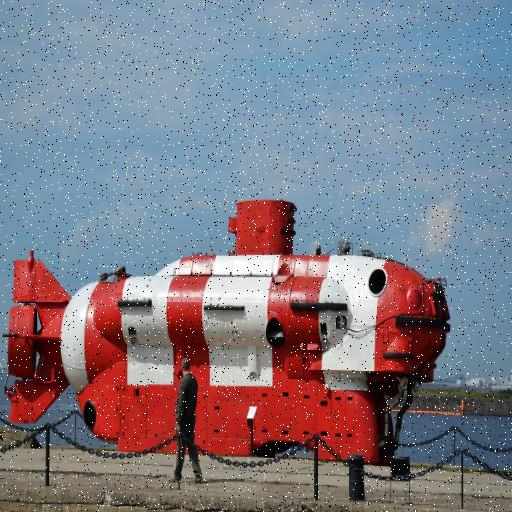submarine: (10, 190, 470, 434)
